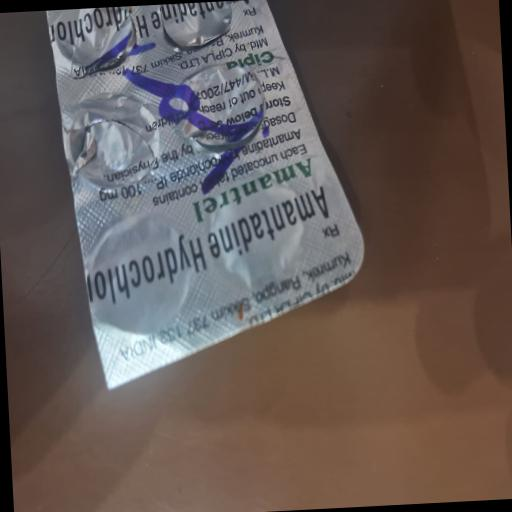Amantrel: (71, 152, 340, 322)
medicine: (52, 0, 381, 389)
